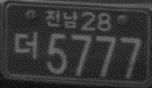2: (80, 10, 96, 33)
5: (45, 31, 68, 74)
7: (94, 34, 117, 79), (119, 36, 143, 79), (70, 33, 92, 77)
8: (97, 11, 111, 33)
더: (13, 28, 39, 62)
전남_O: (44, 8, 78, 29)
